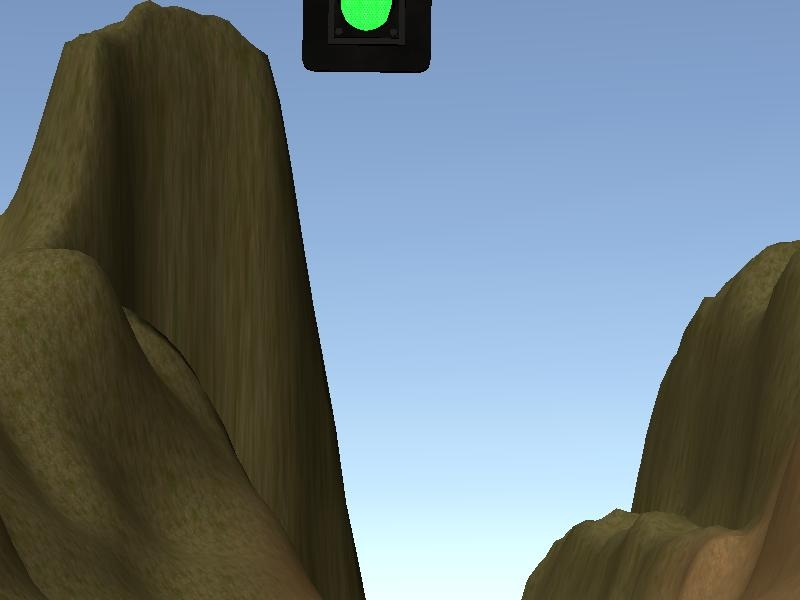traffic_light_green: (1, 1, 800, 75)
